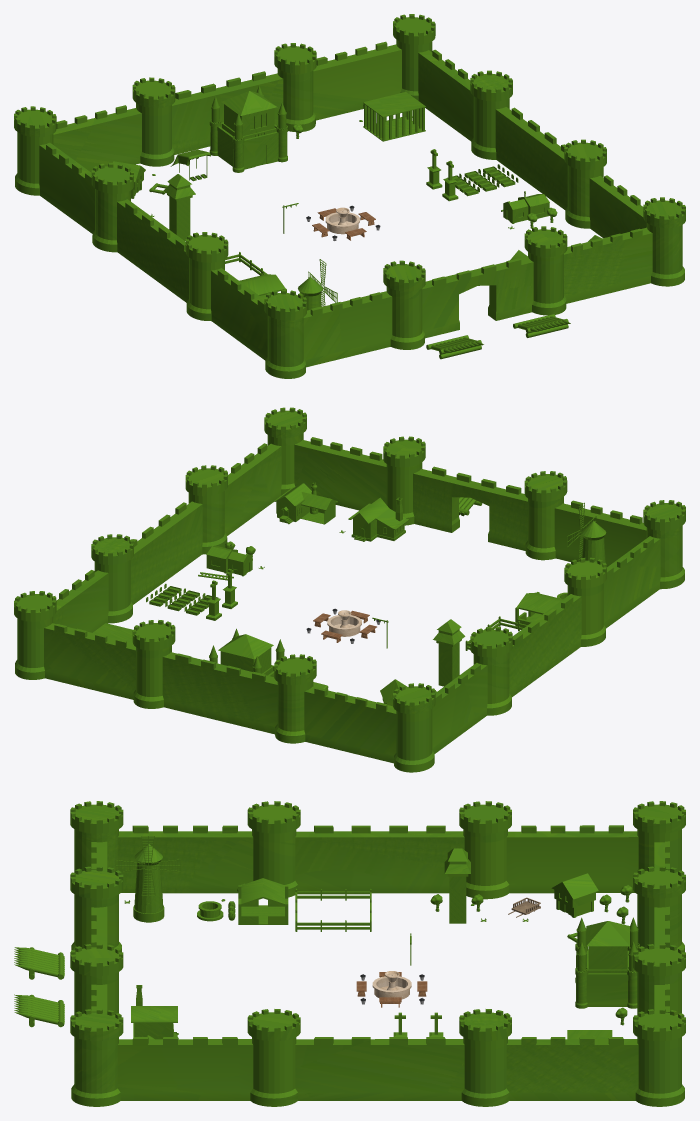
Rendered from Escenario.fbx.
3 renders of one model, top to bottom at view 1: azimuth 30°, elevation 25°; view 2: azimuth 150°, elevation 25°; view 3: azimuth 270°, elevation 25°, orthographic. The views are drawn at different scales.
Visible parts, largest first — view 1: Muros Castillos, MuroCastillo, Jaula, InteriordeCastillo, TorredeReloj, Iglesia, Fuente, Establo; view 2: Muros Castillos, Casa2, InteriordeCastillo, TorredeReloj, Iglesia, Herreria, Establo, Molino, Herreria2, Fuente; view 3: Muros Castillos, MuroCastillo, InteriordeCastillo, Establo, Molino, Casa2, TorredeReloj, Casa1, Fuente, Molino001, Valla003, Valla002.
Part boxes in pixels (bbox=[...]): Muros Castillos: bbox=[14, 14, 685, 378]; MuroCastillo: bbox=[209, 85, 287, 172]; Jaula: bbox=[363, 92, 425, 141]; InteriordeCastillo: bbox=[221, 91, 277, 139]; TorredeReloj: bbox=[164, 174, 195, 240]; Iglesia: bbox=[503, 191, 549, 223]; Fuente: bbox=[325, 207, 359, 234]; Establo: bbox=[239, 273, 286, 298]; Muros Castillos: bbox=[14, 407, 685, 772]; Casa2: bbox=[348, 497, 408, 541]; InteriordeCastillo: bbox=[218, 634, 273, 675]; TorredeReloj: bbox=[433, 619, 465, 686]; Iglesia: bbox=[206, 543, 252, 576]; Herreria: bbox=[274, 483, 311, 524]; Establo: bbox=[515, 592, 562, 627]; Molino: bbox=[581, 521, 606, 562]; Herreria2: bbox=[301, 492, 337, 524]; Fuente: bbox=[327, 610, 361, 636]; Muros Castillos: bbox=[70, 801, 685, 1106]; MuroCastillo: bbox=[575, 917, 639, 1008]; InteriordeCastillo: bbox=[586, 921, 629, 973]; Establo: bbox=[238, 878, 288, 924]; Molino: bbox=[133, 844, 164, 922]; Casa2: bbox=[131, 985, 178, 1039]; TorredeReloj: bbox=[444, 848, 470, 923]; Casa1: bbox=[551, 873, 598, 917]; Fuente: bbox=[372, 971, 411, 999]; Molino001: bbox=[115, 836, 180, 895]; Valla003: bbox=[296, 889, 371, 900]; Valla002: bbox=[296, 920, 371, 931].
Size of the model in its own units: 37670 by 6765 by 47055.
